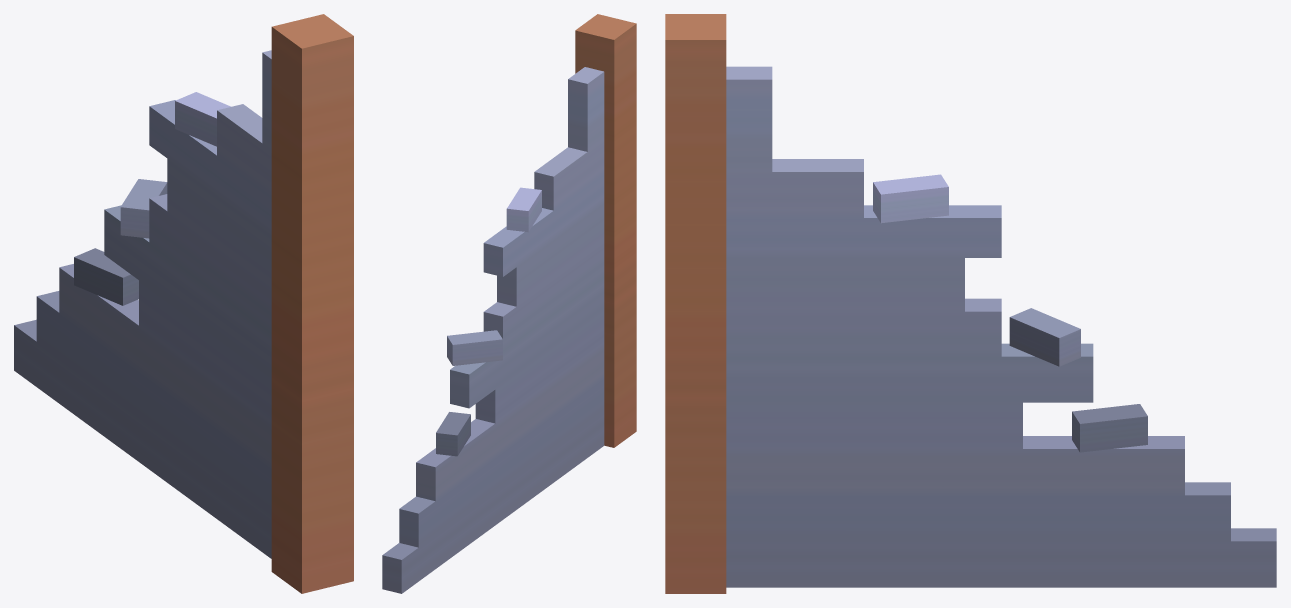
Rendered from wall-broken.glb.
The picture shows the model from 3 angles, left to right: view 1: azimuth 30°, elevation 25°; view 2: azimuth 150°, elevation 25°; view 3: azimuth 270°, elevation 25°; orthographic projection. The views are drawn at different scales.
Parts seen in each view (by area): view 1: wall-broken; view 2: wall-broken; view 3: wall-broken.
Part boxes in pixels (left/top/right/bottom): wall-broken: left=14, top=14, right=353, bottom=593; wall-broken: left=382, top=14, right=636, bottom=593; wall-broken: left=665, top=14, right=1276, bottom=593.
Bounding box in the file's own units: 0.1168 × 1 × 1.
1 material, 1 textured.
